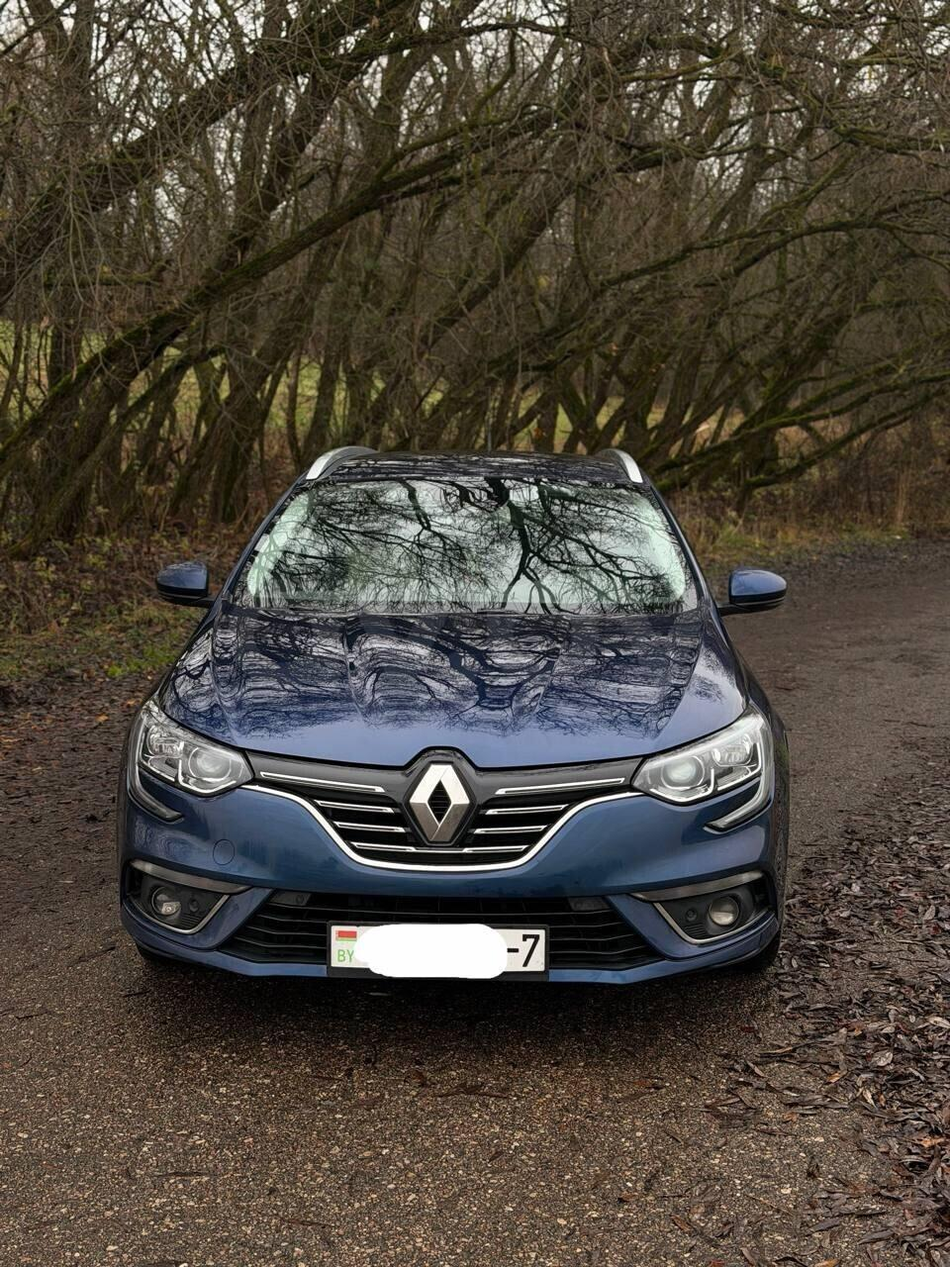Megane_2016-2020: (125, 445, 821, 1021)
